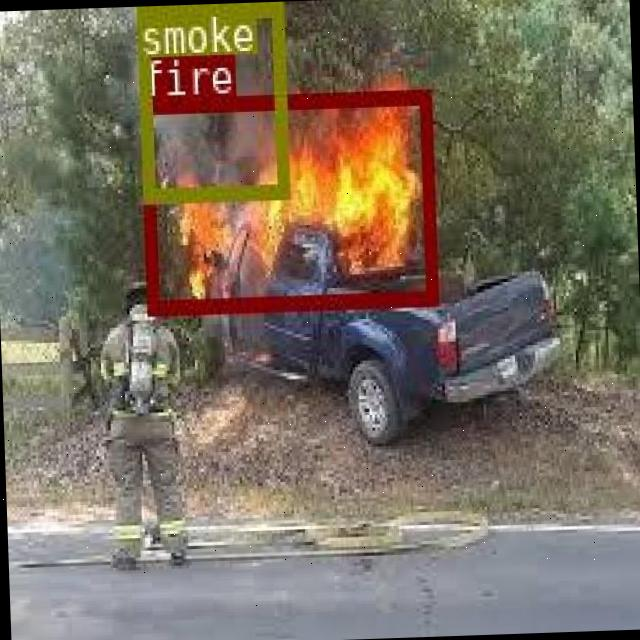fire: (140, 88, 436, 313)
smoke: (135, 1, 287, 201)
